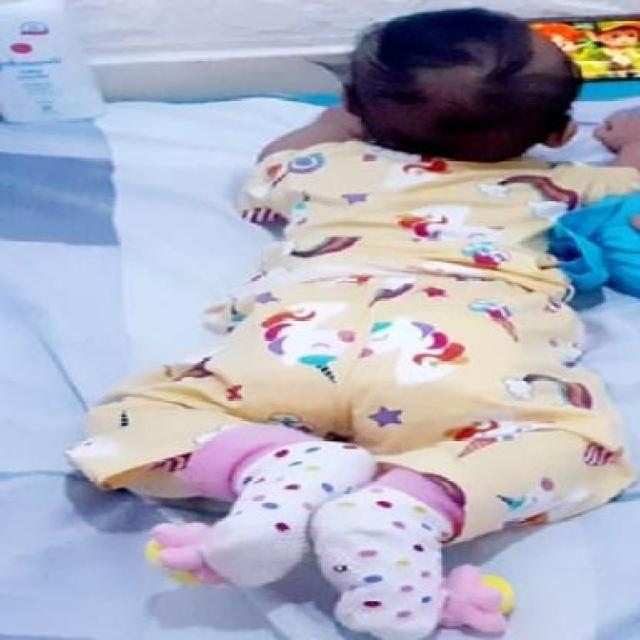baby: (71, 8, 640, 640)
